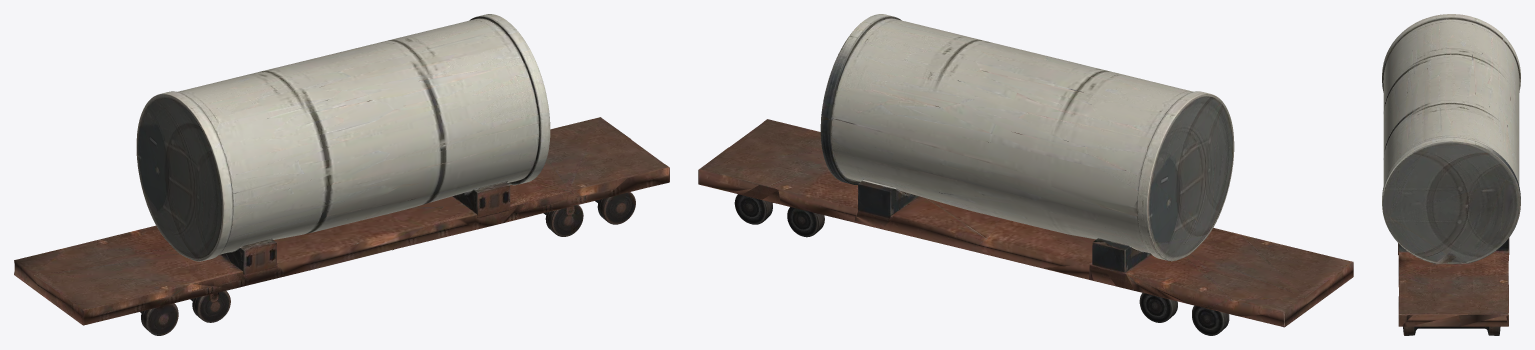
The model's file is booster-car.glb.
3 views of the same model, side by side, from view 1: azimuth 30°, elevation 25°; view 2: azimuth 150°, elevation 25°; view 3: azimuth 270°, elevation 25° (orthographic). The views are drawn at different scales.
Bounding box in the file's own units: 2 × 0.6595 × 0.5145.
1 material, 1 textured.
